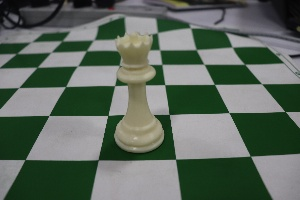white_queen: (107, 18, 170, 162)
